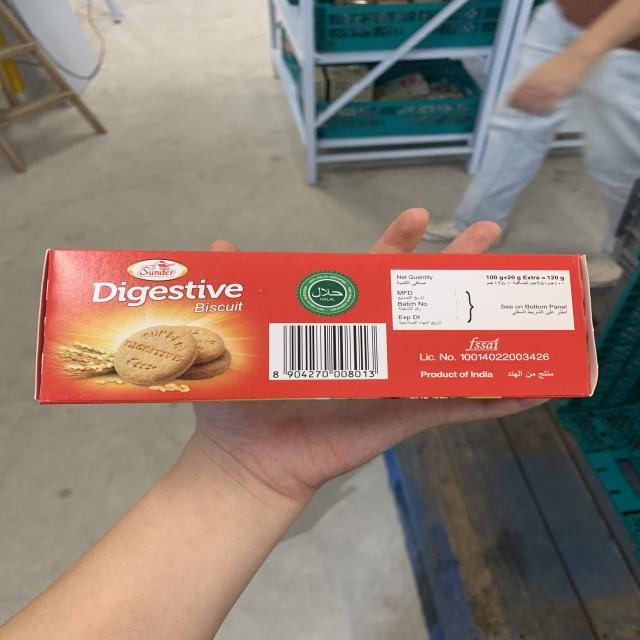object_name: (45, 249, 589, 397)
